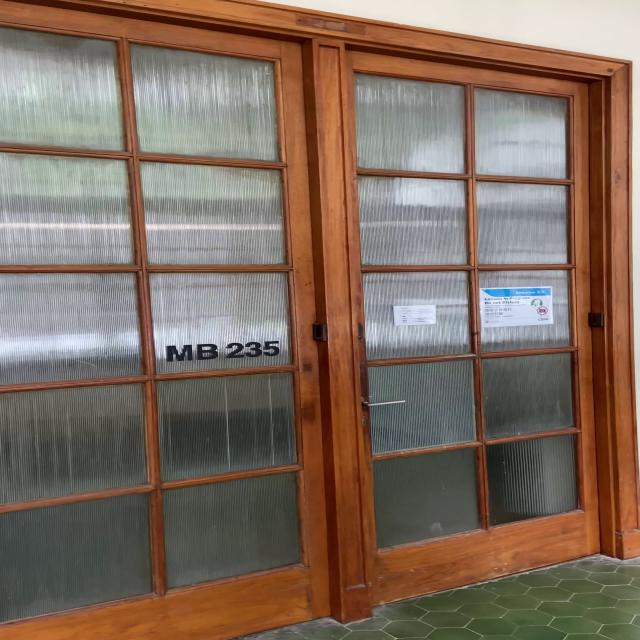room235Window: (162, 337, 283, 366)
